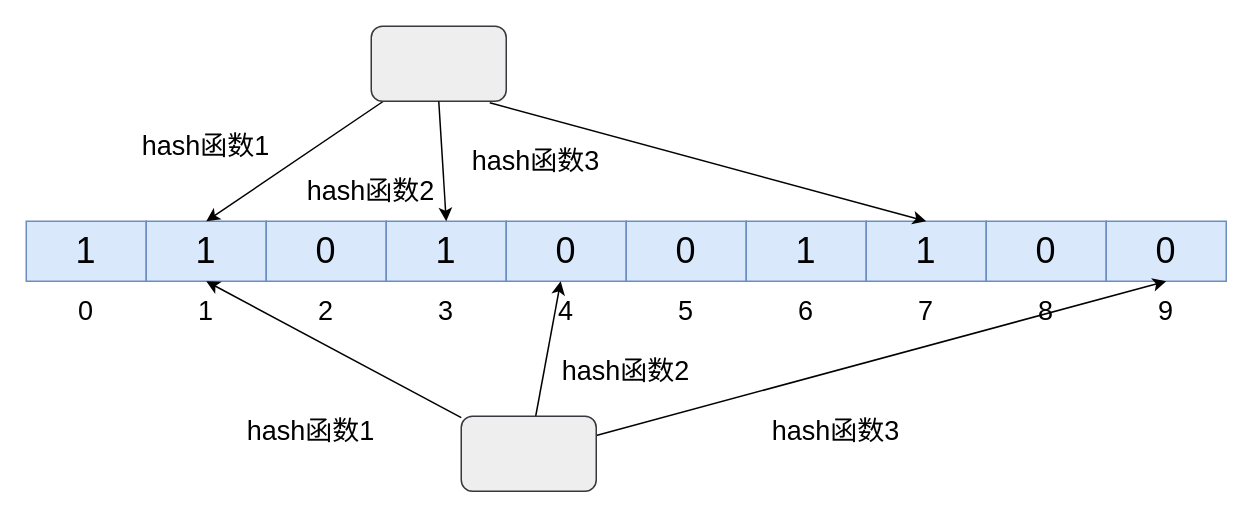
Image size: 1253x518. Some labels were removed from this diagram. Each missing label, with the centre of its shape:
"jovi" goes at pixel 438 63.
"pub" goes at pixel 528 453.
